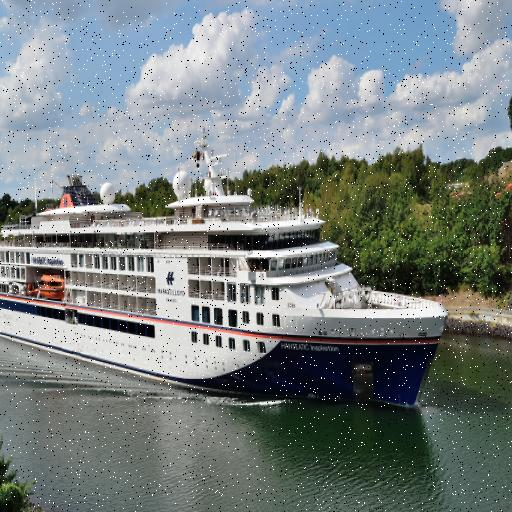cruises: (1, 132, 452, 416)
